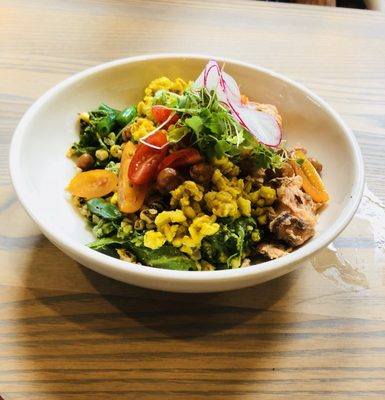curry: (67, 104, 138, 167), (200, 216, 263, 270)
sushi: (7, 56, 362, 297)
